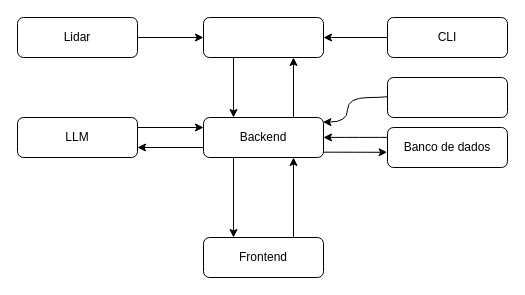
The diagram is 525 pixels wide and 295 high, and some of its shapes have lost their labels. The centre of each missing label's shape, as x and y in pixels:
Serviços externos de saúde: point (447, 97)
Turtlebot: point (263, 37)
